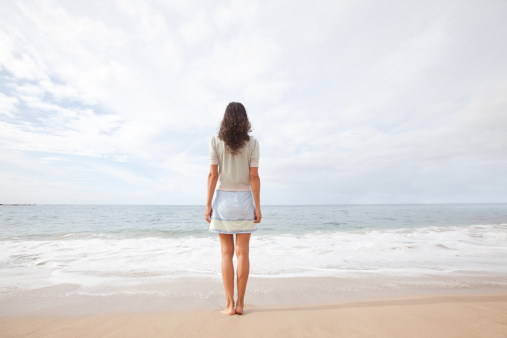em pe: (196, 97, 261, 316)
